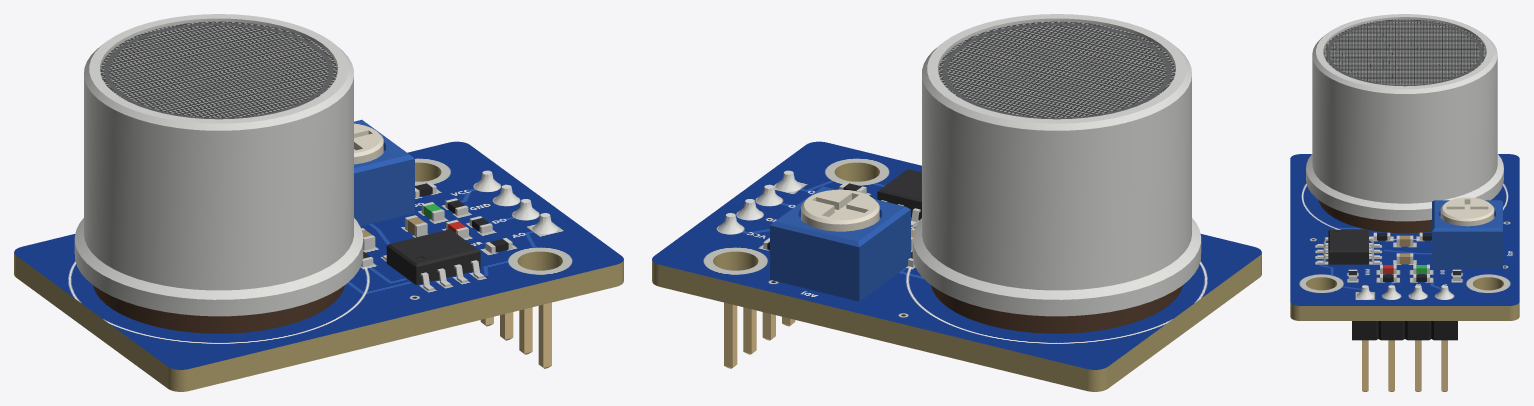
The picture shows the model from 3 angles, left to right: view 1: azimuth 30°, elevation 25°; view 2: azimuth 150°, elevation 25°; view 3: azimuth 270°, elevation 25°; orthographic projection. The views are drawn at different scales.
Visible parts, largest first — view 1: Gas_sensor_cap, PCB, Gas_sensor_mesh, Threshold_trimmer, Gas_sensor_base, Comparator, Threshold_trimmer_rotor, Pins_pin_1, Pins_pin_2, Comparator_leads; view 2: Gas_sensor_cap, PCB, Gas_sensor_mesh, Threshold_trimmer, Gas_sensor_base, Threshold_trimmer_rotor, Comparator, Pins_pin_4, Pins_pin_3; view 3: Gas_sensor_cap, PCB, Gas_sensor_mesh, Threshold_trimmer, Pins_carrier, Comparator, Threshold_trimmer_rotor, Gas_sensor_base, Comparator_leads, Pins_pin_1, Pins_pin_2, Pins_pin_3 (+1 smaller).
Boxes of the visible parts, <box> form: Gas_sensor_cap: <box>74,14,363,316</box>; PCB: <box>14,141,623,391</box>; Gas_sensor_mesh: <box>100,21,337,119</box>; Threshold_trimmer: <box>354,119,414,226</box>; Gas_sensor_base: <box>93,285,344,333</box>; Comparator: <box>386,229,480,284</box>; Threshold_trimmer_rotor: <box>354,123,383,164</box>; Pins_pin_1: <box>538,302,551,368</box>; Pins_pin_2: <box>519,307,532,354</box>; Comparator_leads: <box>383,255,484,291</box>; Gas_sensor_cap: <box>912,14,1201,316</box>; PCB: <box>652,141,1261,391</box>; Gas_sensor_mesh: <box>938,21,1175,119</box>; Threshold_trimmer: <box>770,186,910,301</box>; Gas_sensor_base: <box>931,285,1182,333</box>; Threshold_trimmer_rotor: <box>801,189,879,231</box>; Comparator: <box>877,169,921,219</box>; Pins_pin_4: <box>724,302,737,368</box>; Pins_pin_3: <box>743,307,756,354</box>; Gas_sensor_cap: <box>1306,14,1503,221</box>; PCB: <box>1290,154,1519,320</box>; Gas_sensor_mesh: <box>1323,19,1486,86</box>; Threshold_trimmer: <box>1432,200,1502,268</box>; Pins_carrier: <box>1352,321,1457,340</box>; Comparator: <box>1328,230,1368,264</box>; Threshold_trimmer_rotor: <box>1440,197,1494,226</box>; Gas_sensor_base: <box>1318,200,1431,233</box>; Comparator_leads: <box>1317,237,1379,263</box>; Pins_pin_1: <box>1362,340,1368,391</box>; Pins_pin_2: <box>1388,340,1394,391</box>; Pins_pin_3: <box>1415,340,1421,391</box>.
Size of the model in its own units: 0.0345 by 0.0255 by 0.022.
18 materials, 18 textured.
